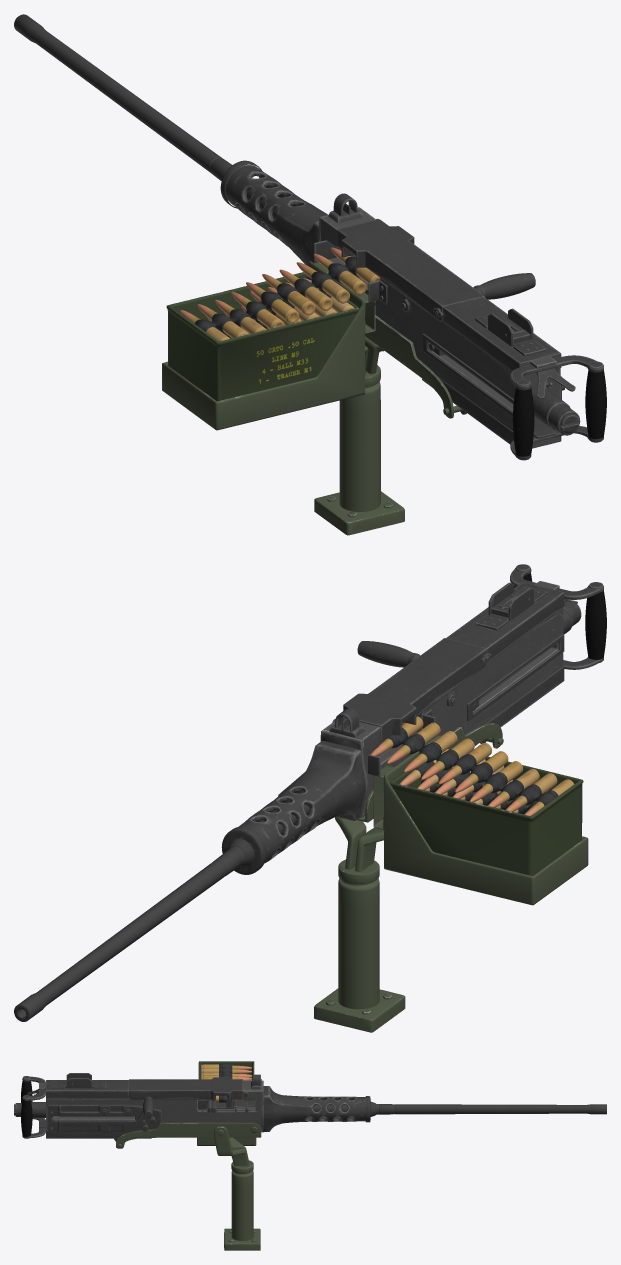
The picture shows the model from 3 angles, top to bottom: view 1: azimuth 30°, elevation 25°; view 2: azimuth 150°, elevation 25°; view 3: azimuth 270°, elevation 25°; orthographic projection. The views are drawn at different scales.
Parts seen in each view (by area): view 1: receiver, ammo, mount, barrel, rear; view 2: ammo, receiver, barrel, mount, rear; view 3: receiver, barrel, mount, rear, ammo.
Part boxes in pixels (bbox=[...]): receiver: bbox=[314, 193, 606, 460]; ammo: bbox=[162, 247, 379, 430]; mount: bbox=[314, 262, 462, 535]; barrel: bbox=[14, 14, 360, 265]; rear: bbox=[422, 273, 564, 416]; ammo: bbox=[363, 716, 588, 905]; receiver: bbox=[323, 564, 606, 816]; barrel: bbox=[14, 730, 367, 1021]; mount: bbox=[314, 723, 503, 1032]; rear: bbox=[357, 634, 564, 721]; receiver: bbox=[14, 1073, 261, 1141]; barrel: bbox=[261, 1080, 606, 1132]; mount: bbox=[116, 1122, 261, 1250]; rear: bbox=[48, 1096, 161, 1132]; ammo: bbox=[197, 1061, 256, 1145].
Size of the model in its own units: 0.6428 by 0.7027 by 2.25.
5 materials, 5 textured.
